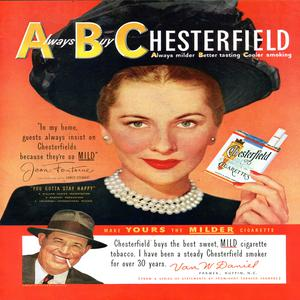cigarette: (66, 258, 74, 273)
